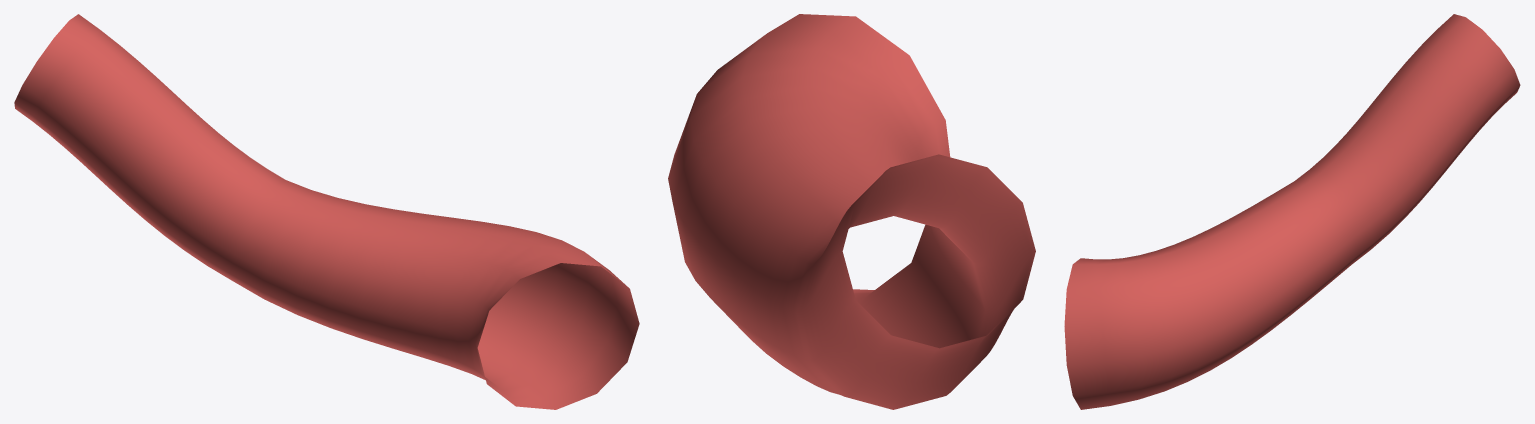
3 views of the same model, side by side, from view 1: azimuth 30°, elevation 25°; view 2: azimuth 150°, elevation 25°; view 3: azimuth 270°, elevation 25° (orthographic). The views are drawn at different scales.
Parts seen in each view (by area): view 1: 右侧髂总动脉; view 2: 右侧髂总动脉; view 3: 右侧髂总动脉.
Part boxes in pixels (x1,y1,x2,y2): 右侧髂总动脉: [14, 14, 639, 409]; 右侧髂总动脉: [668, 14, 1035, 409]; 右侧髂总动脉: [1064, 14, 1520, 409].
Size of the model in its own units: 0.071 by 0.0513 by 0.0792.
